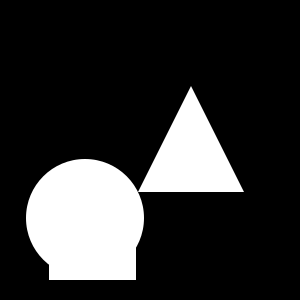circle: (49, 193, 136, 280)
rectangle: (26, 159, 144, 277)
triangle: (138, 86, 244, 192)
